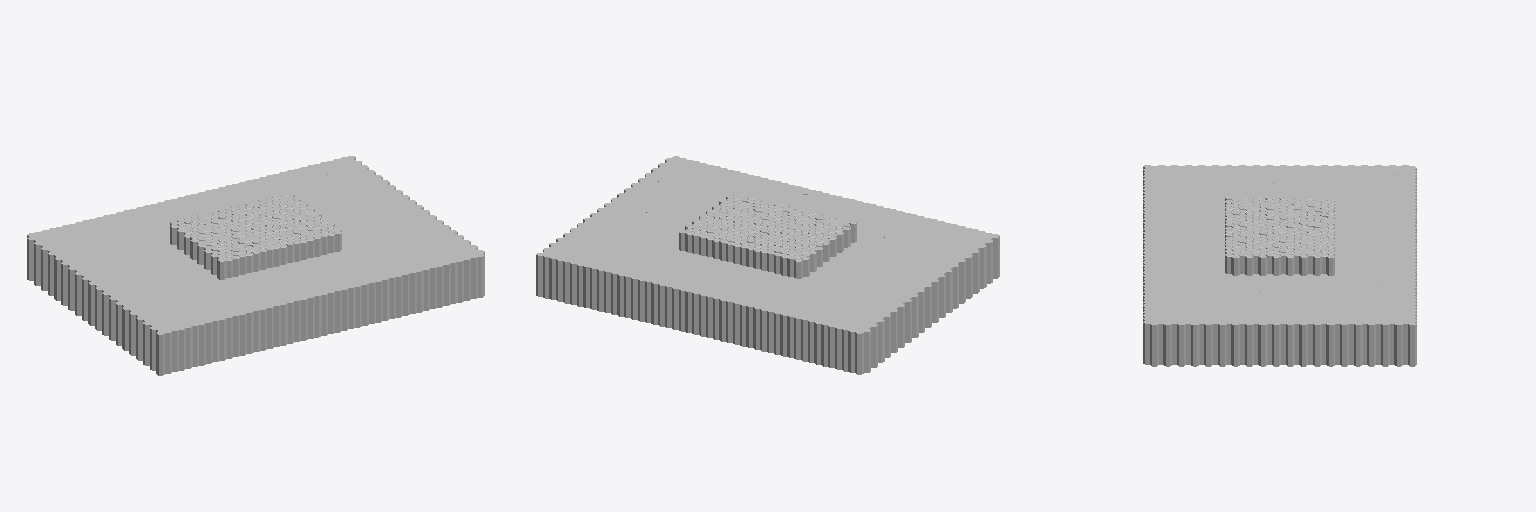
Rendered from hexgroundbase.obj.
The picture shows the model from 3 angles: view 1: azimuth 30°, elevation 25°; view 2: azimuth 150°, elevation 25°; view 3: azimuth 270°, elevation 25°; orthographic projection.
Parts seen in each view (by area): view 1: Cylinder.003, Cylinder.004; view 2: Cylinder.003, Cylinder.004; view 3: Cylinder.003, Cylinder.004.
Boxes of the visible parts, x1,y1,x2,y2 form: Cylinder.003: [27, 156, 484, 375]; Cylinder.004: [170, 193, 341, 279]; Cylinder.003: [536, 156, 999, 374]; Cylinder.004: [679, 193, 856, 278]; Cylinder.003: [1143, 165, 1416, 366]; Cylinder.004: [1225, 196, 1334, 275].
Bounding box in the file's own units: 84.01 × 14.67 × 60.49.